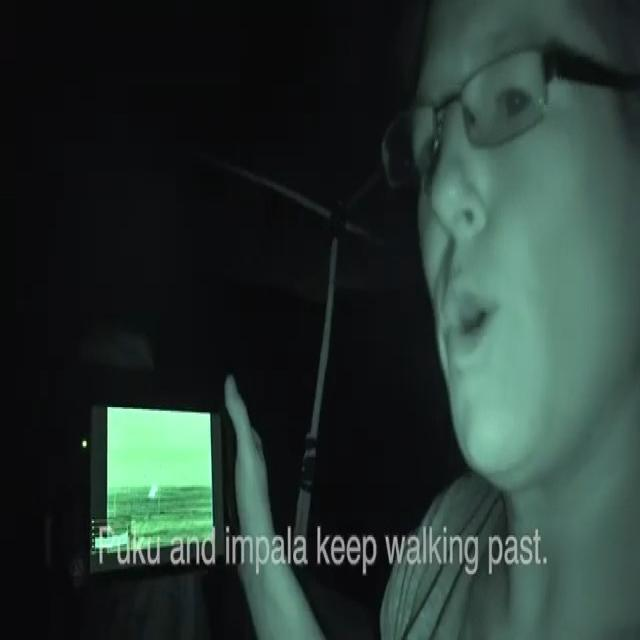device: (70, 353, 271, 640)
human: (374, 7, 640, 640)
